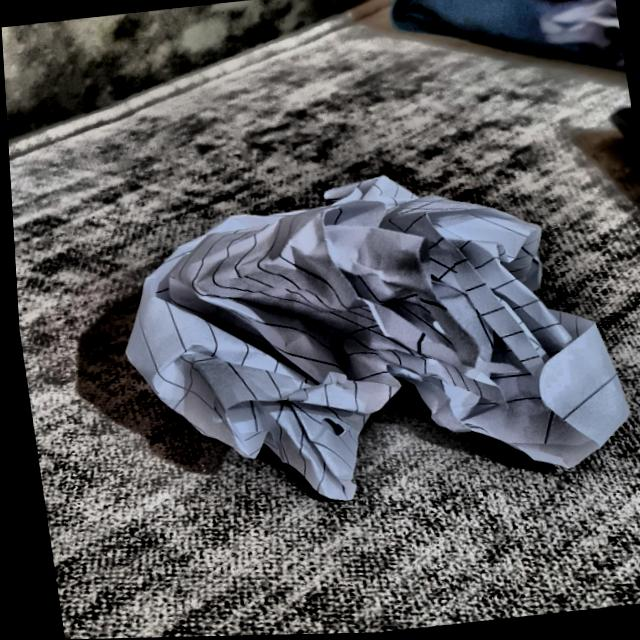paper: (85, 161, 640, 534)
